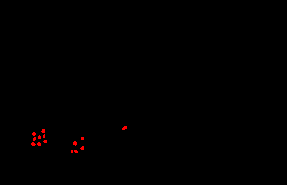Target: (122, 126, 127, 130), (73, 141, 77, 146), (31, 142, 36, 146), (41, 129, 45, 133), (32, 132, 36, 136), (37, 142, 41, 146), (80, 146, 84, 150), (38, 135, 41, 139), (33, 137, 36, 141), (43, 140, 47, 143), (74, 150, 78, 153), (81, 137, 84, 140), (43, 134, 45, 138), (71, 150, 73, 153)
